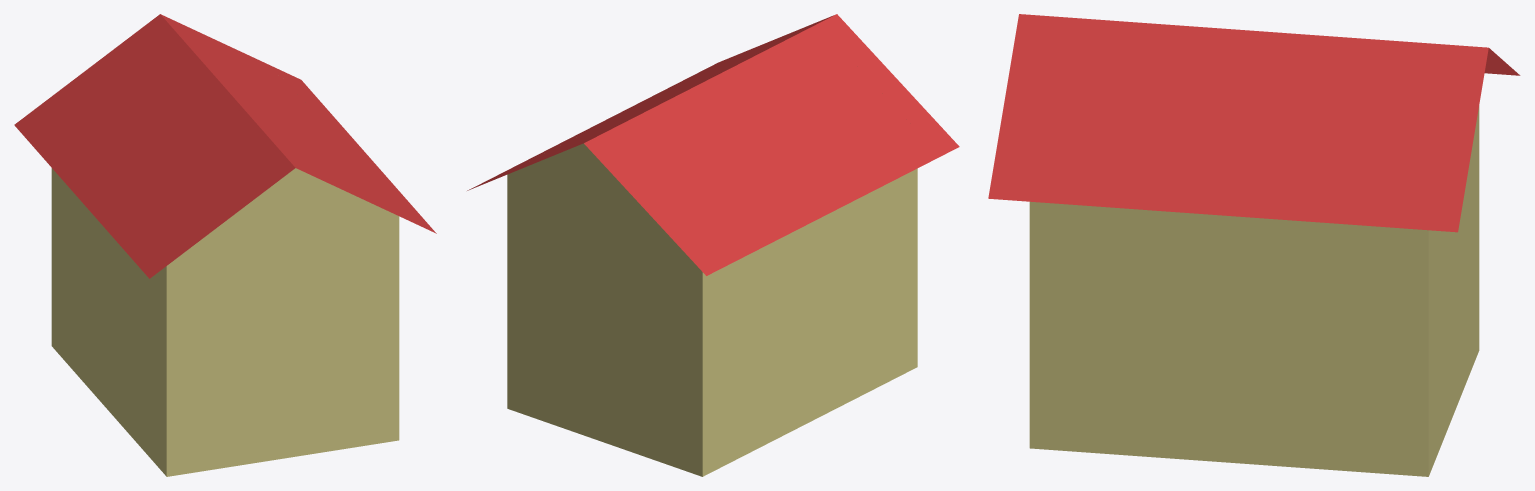
3 renders of one model, left to right at view 1: azimuth 30°, elevation 25°; view 2: azimuth 150°, elevation 25°; view 3: azimuth 270°, elevation 25°, orthographic. The views are drawn at different scales.
Bounding box in the file's own units: 12.55 × 14.85 × 11.38.
